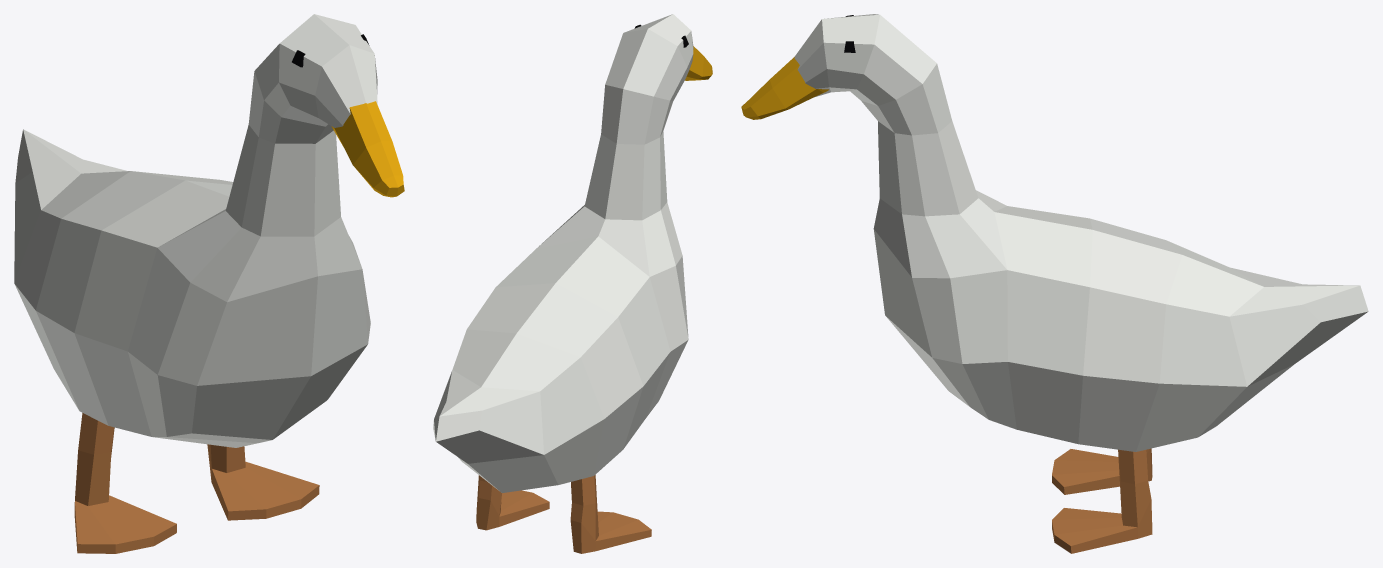
The model's file is Mesh_Duck.obj.
3 views of the same model, side by side, from view 1: azimuth 30°, elevation 25°; view 2: azimuth 150°, elevation 25°; view 3: azimuth 270°, elevation 25° (orthographic). The views are drawn at different scales.
Parts seen in each view (by area): view 1: Geo_Duck; view 2: Geo_Duck; view 3: Geo_Duck.
Part boxes in pixels (x1=…): Geo_Duck: x1=14, y1=14, x2=404, y2=553; Geo_Duck: x1=433, y1=14, x2=712, y2=553; Geo_Duck: x1=741, y1=14, x2=1368, y2=553.
Size of the model in its own units: 21.5 by 50.48 by 58.51.
Materials: 1 (1 with a texture image).
